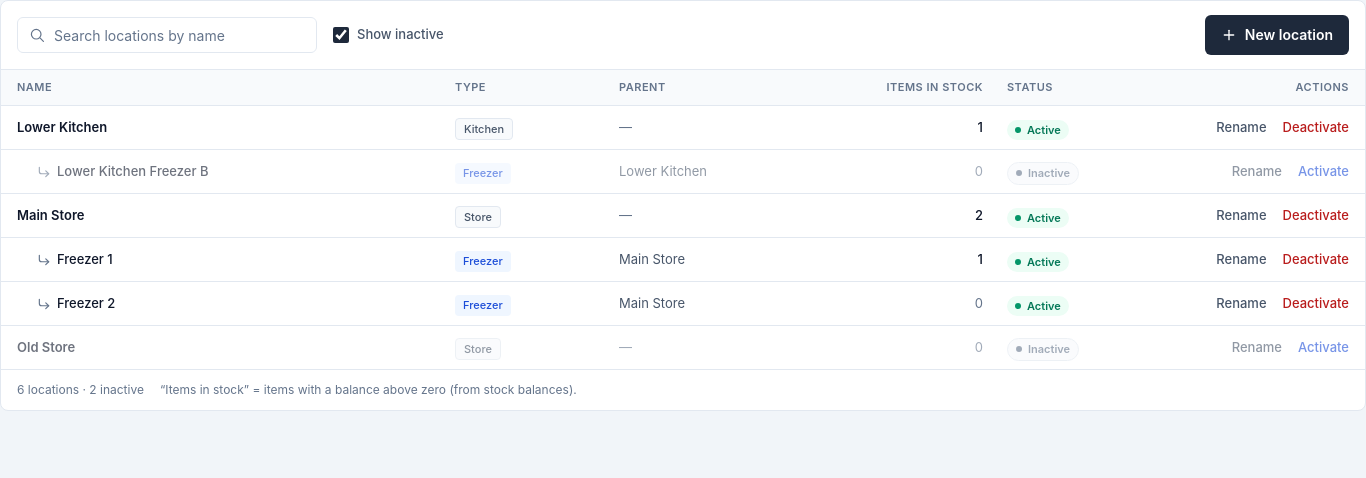
Test: StockLocationsPage (UI-STOCK-002, desktop) › explains a 403 on an active change as Owner-only (client role and server identity can differ)
The width and height of the screenshot is (1366, 478).
Step 1. Click the button "Activate" in the row of "Lower Kitchen Freezer B" → [1324, 172], box [1298, 162, 1349, 181]
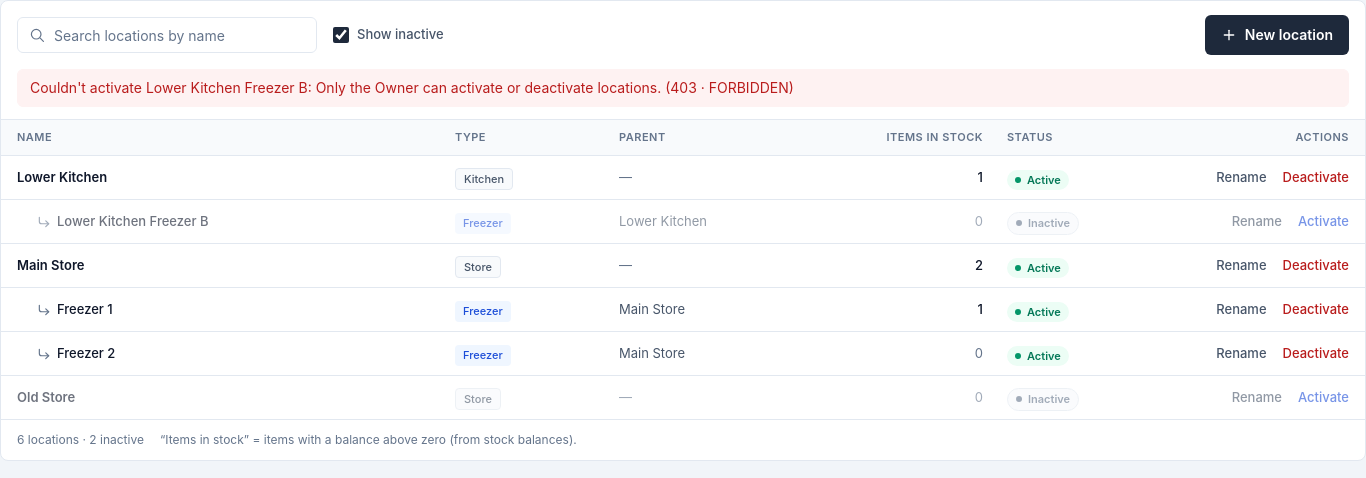
Check: the message shows "Couldn't activate Lower Kitchen Freezer B: Only the Owner can activate or deactivate locations. (403 · FORBIDDEN)", box [30, 79, 794, 96]
